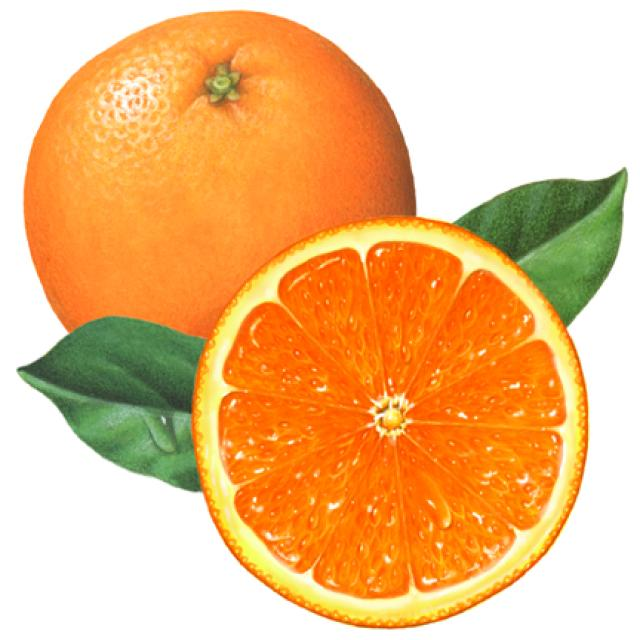orange: (189, 212, 592, 632), (22, 8, 418, 379)
